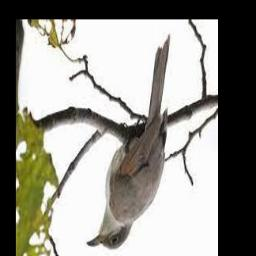Cuckoo: (86, 35, 170, 250)
